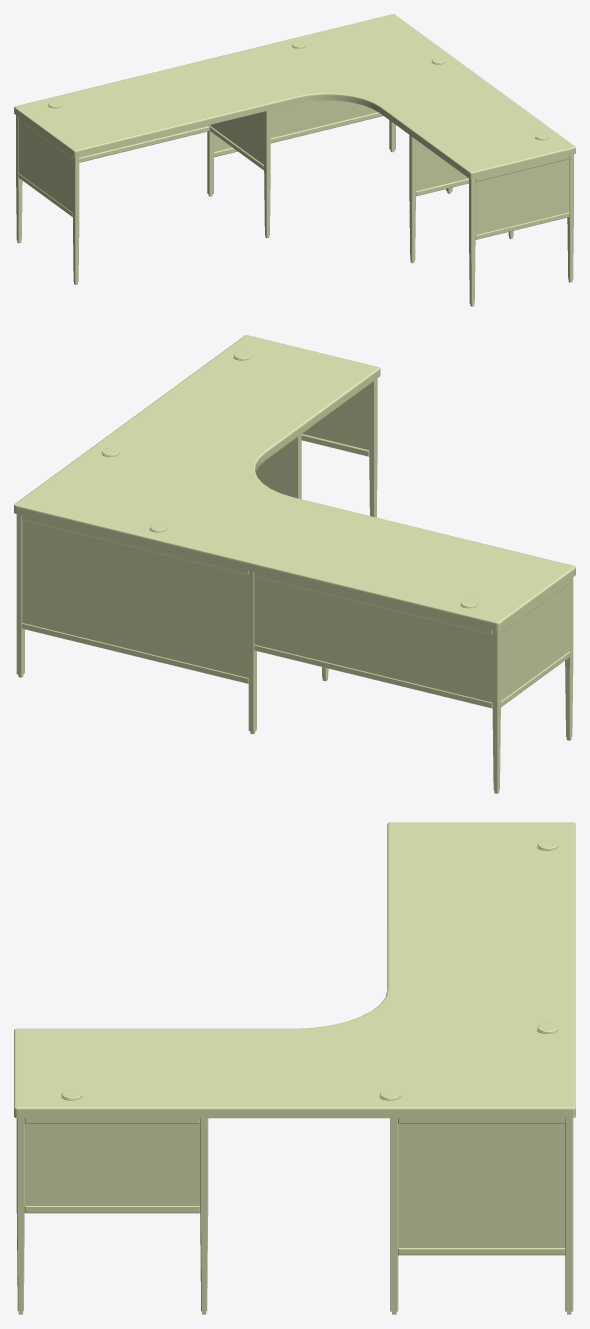
Rendered from desk_curved_model.fbx.
The picture shows the model from 3 angles, top to bottom: view 1: azimuth 30°, elevation 25°; view 2: azimuth 150°, elevation 25°; view 3: azimuth 270°, elevation 25°; orthographic projection. The views are drawn at different scales.
Visible parts, largest first — view 1: desk_curved_model; view 2: desk_curved_model; view 3: desk_curved_model.
Boxes of the visible parts, x1=… form: desk_curved_model: x1=14, y1=14, x2=575, y2=306; desk_curved_model: x1=14, y1=335, x2=575, y2=793; desk_curved_model: x1=14, y1=822, x2=575, y2=1314.
Size of the model in its own units: 9412 by 3232 by 7812.
